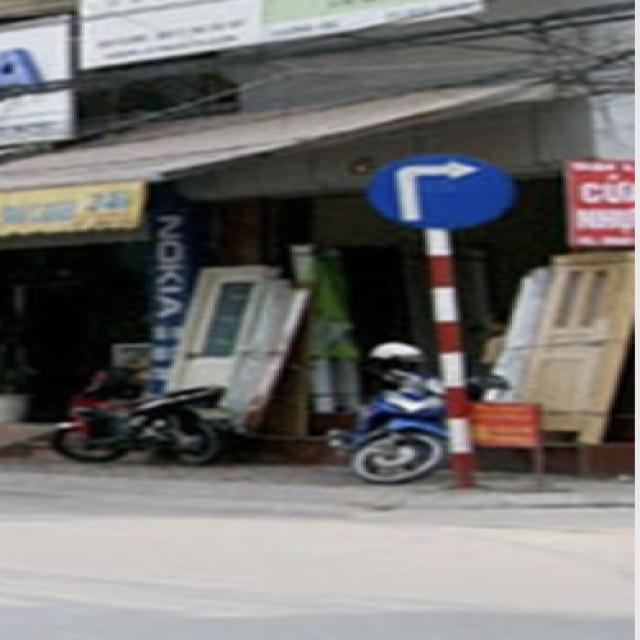301d-cac-xe-chi-duoc-re-phai-2: (372, 152, 512, 225)
